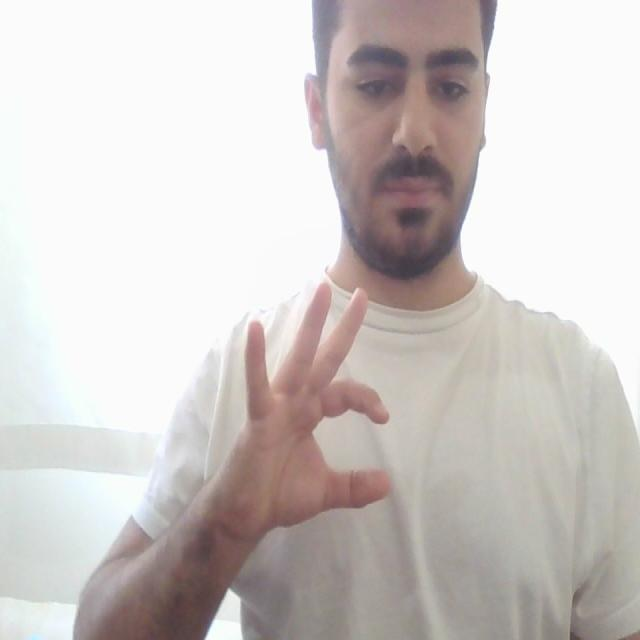Tuvalet: (190, 262, 422, 562)
